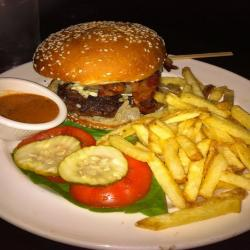burger: (29, 15, 181, 143)
fries: (143, 81, 244, 208)
ketchup: (1, 80, 61, 136)
